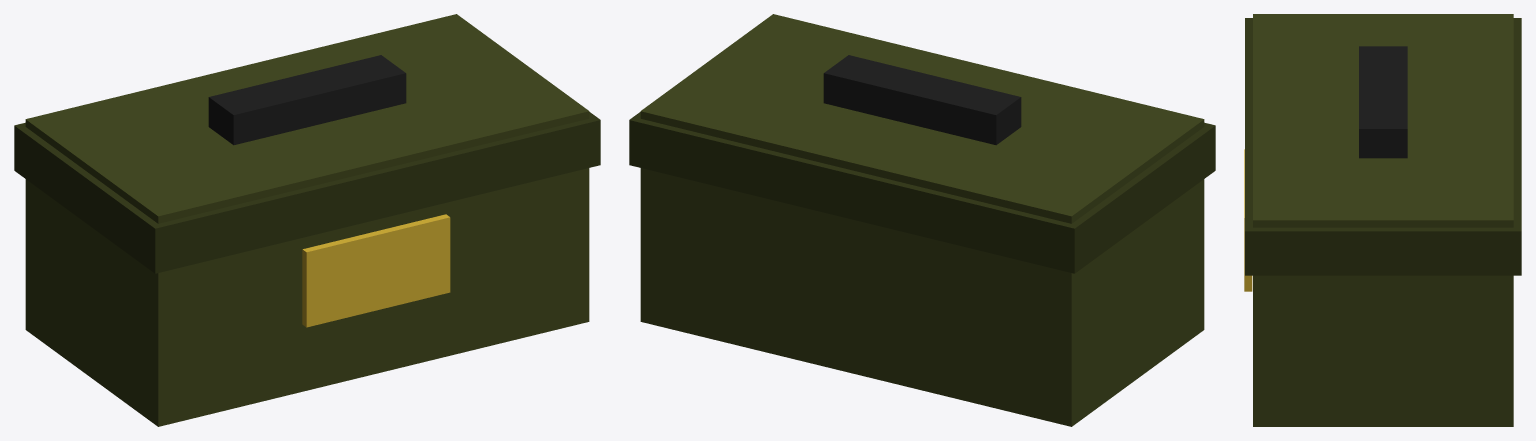
File: ammo.glb
3 views of the same model, side by side, from view 1: azimuth 30°, elevation 25°; view 2: azimuth 150°, elevation 25°; view 3: azimuth 270°, elevation 25° (orthographic).
Visible parts, largest first — view 1: ammo; view 2: ammo; view 3: ammo.
Boxes of the visible parts, x1,y1,x2,y2 form: ammo: [14, 14, 600, 426]; ammo: [629, 14, 1215, 426]; ammo: [1244, 14, 1521, 426].
Size of the model in its own units: 0.31 by 0.16 by 0.1705.
